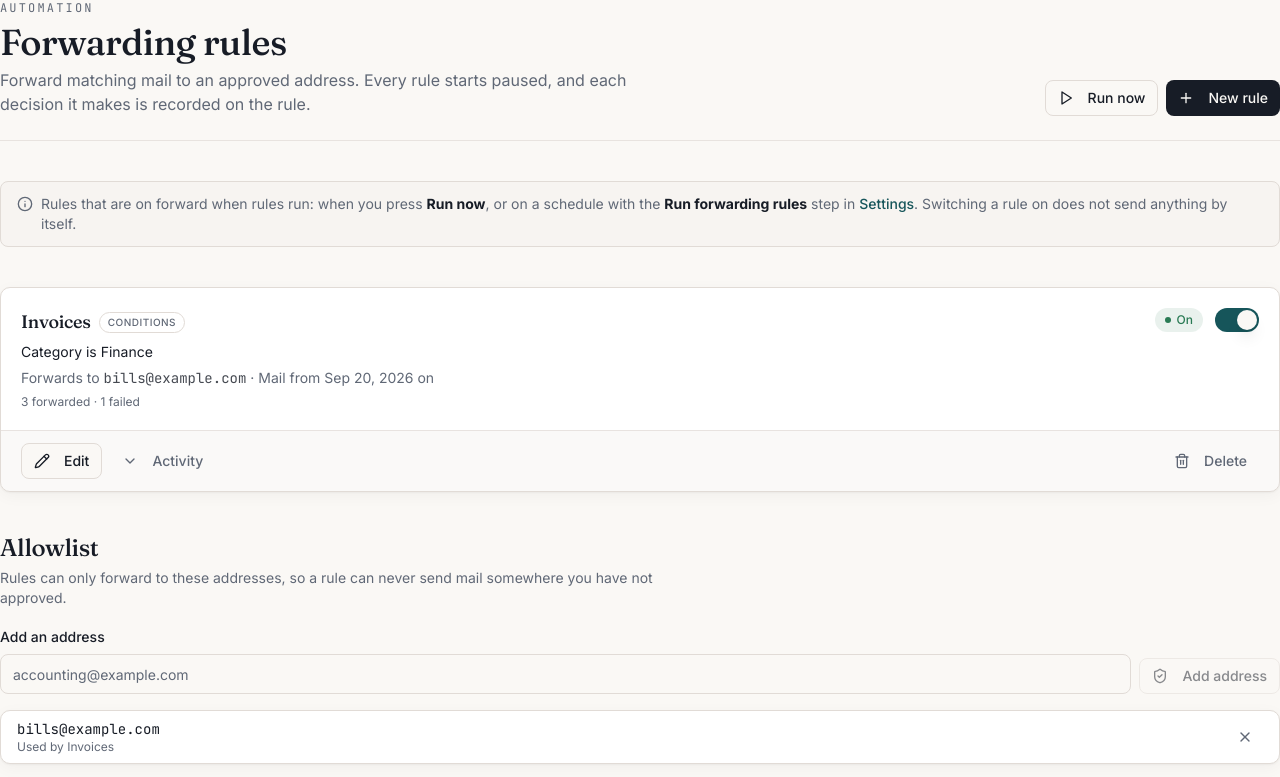
Test: Reading rules › shows recent activity on request
This screenshot has width=1280, height=777.
Click the button "Activity" at (163, 461), box top-left (110, 443), bottom-right (215, 479)
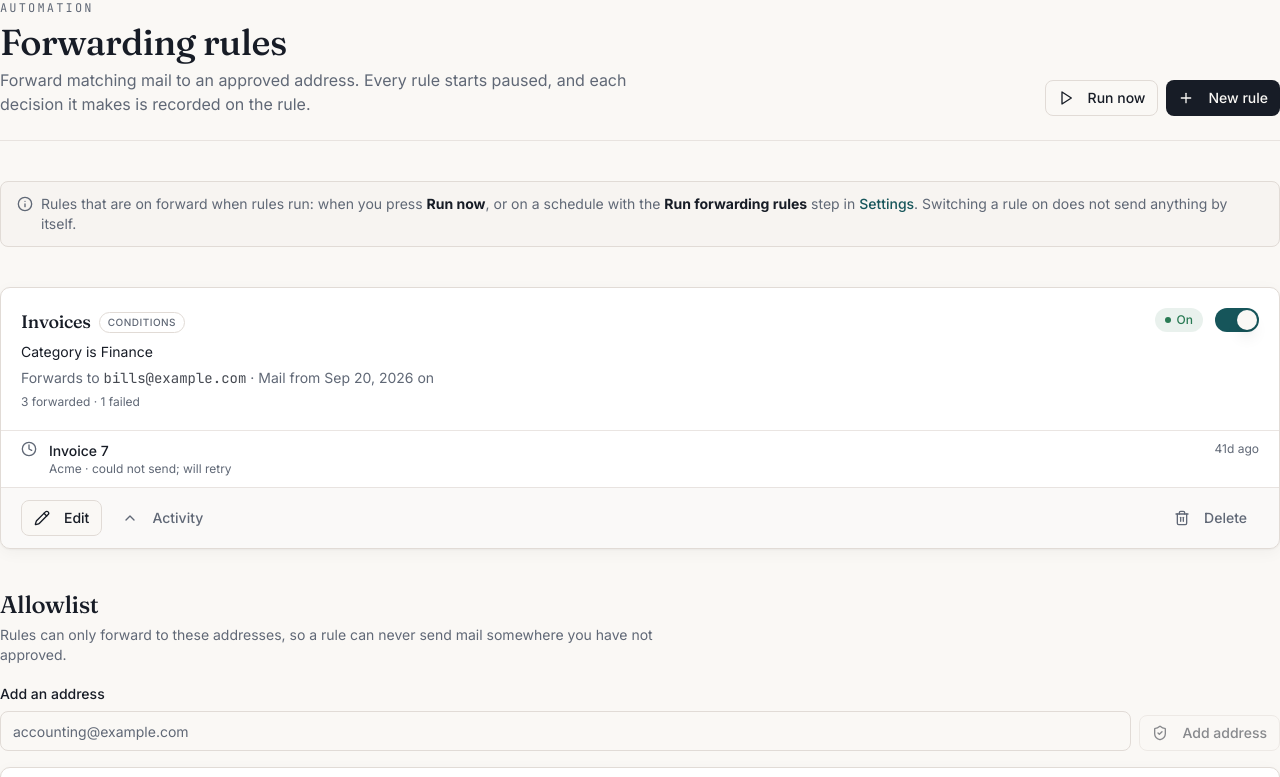
Now the text "Invoice 7" is shown, box top-left (49, 442), bottom-right (109, 459)
Now the icon named "Waiting" is shown, box top-left (21, 441), bottom-right (37, 457)
